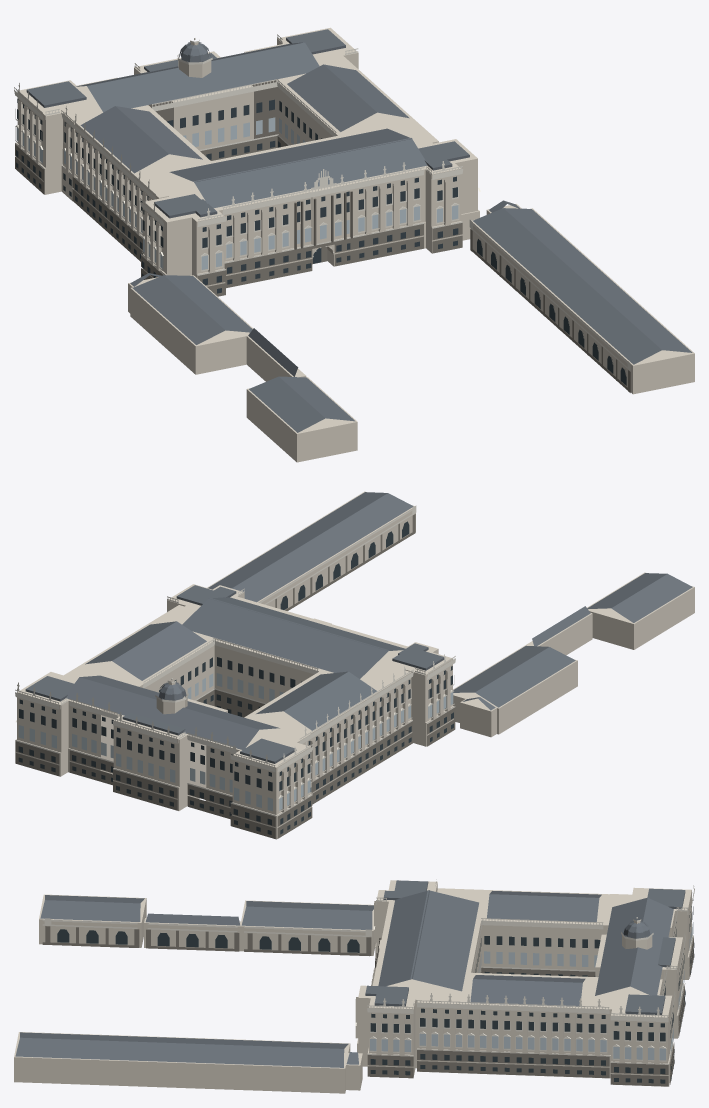
The model's file is palacio-real-de-madrid-far.glb.
The picture shows the model from 3 angles, top to bottom: view 1: azimuth 30°, elevation 25°; view 2: azimuth 150°, elevation 25°; view 3: azimuth 270°, elevation 25°; orthographic projection. The views are drawn at different scales.
Visible parts, largest first — view 1: palacio-real-de-madrid-0-stone, palacio-real-de-madrid-0-roof, palacio-real-de-madrid-0-granite, palacio-real-de-madrid-0-trim, palacio-real-de-madrid-0-glass, palacio-real-de-madrid-0-glow; view 2: palacio-real-de-madrid-0-stone, palacio-real-de-madrid-0-roof, palacio-real-de-madrid-0-granite, palacio-real-de-madrid-0-trim, palacio-real-de-madrid-0-glass, palacio-real-de-madrid-0-glow; view 3: palacio-real-de-madrid-0-stone, palacio-real-de-madrid-0-roof, palacio-real-de-madrid-0-granite, palacio-real-de-madrid-0-trim, palacio-real-de-madrid-0-glass, palacio-real-de-madrid-0-glow.
Part boxes in pixels (x1,y1,x2,y2): palacio-real-de-madrid-0-stone: [15, 27, 694, 462]; palacio-real-de-madrid-0-roof: [26, 29, 692, 432]; palacio-real-de-madrid-0-granite: [15, 136, 630, 392]; palacio-real-de-madrid-0-trim: [14, 34, 630, 370]; palacio-real-de-madrid-0-glass: [16, 99, 626, 385]; palacio-real-de-madrid-0-glow: [16, 117, 458, 269]; palacio-real-de-madrid-0-stone: [15, 491, 694, 839]; palacio-real-de-madrid-0-roof: [25, 492, 692, 763]; palacio-real-de-madrid-0-granite: [15, 514, 455, 838]; palacio-real-de-madrid-0-trim: [15, 505, 455, 816]; palacio-real-de-madrid-0-glass: [18, 521, 453, 834]; palacio-real-de-madrid-0-glow: [18, 673, 453, 811]; palacio-real-de-madrid-0-stone: [14, 880, 693, 1093]; palacio-real-de-madrid-0-roof: [15, 880, 685, 1067]; palacio-real-de-madrid-0-granite: [42, 926, 693, 1086]; palacio-real-de-madrid-0-trim: [42, 879, 694, 1064]; palacio-real-de-madrid-0-glass: [57, 899, 694, 1083]; palacio-real-de-madrid-0-glow: [370, 922, 693, 1060].
Bounding box in the file's own units: 172 × 47.6 × 284.
